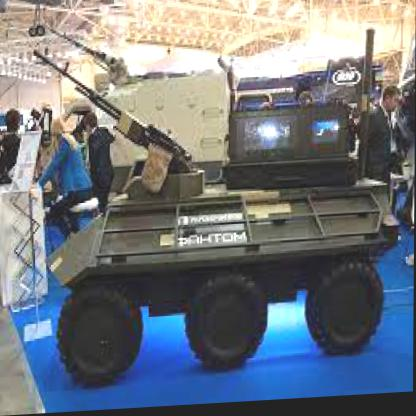UGV: (46, 165, 399, 393)
